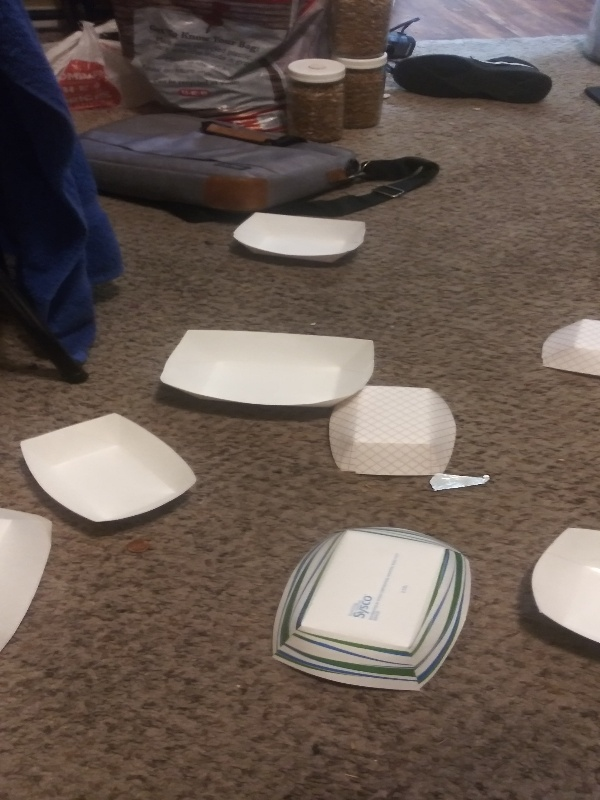plate: (267, 519, 475, 700), (15, 414, 208, 534), (160, 325, 381, 405), (524, 521, 600, 659), (1, 499, 60, 666), (229, 208, 367, 270), (535, 315, 600, 381)
